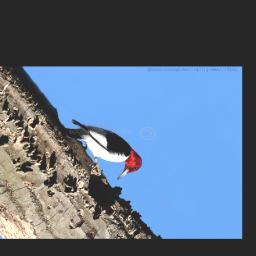Woodpecker: (54, 115, 152, 184)
